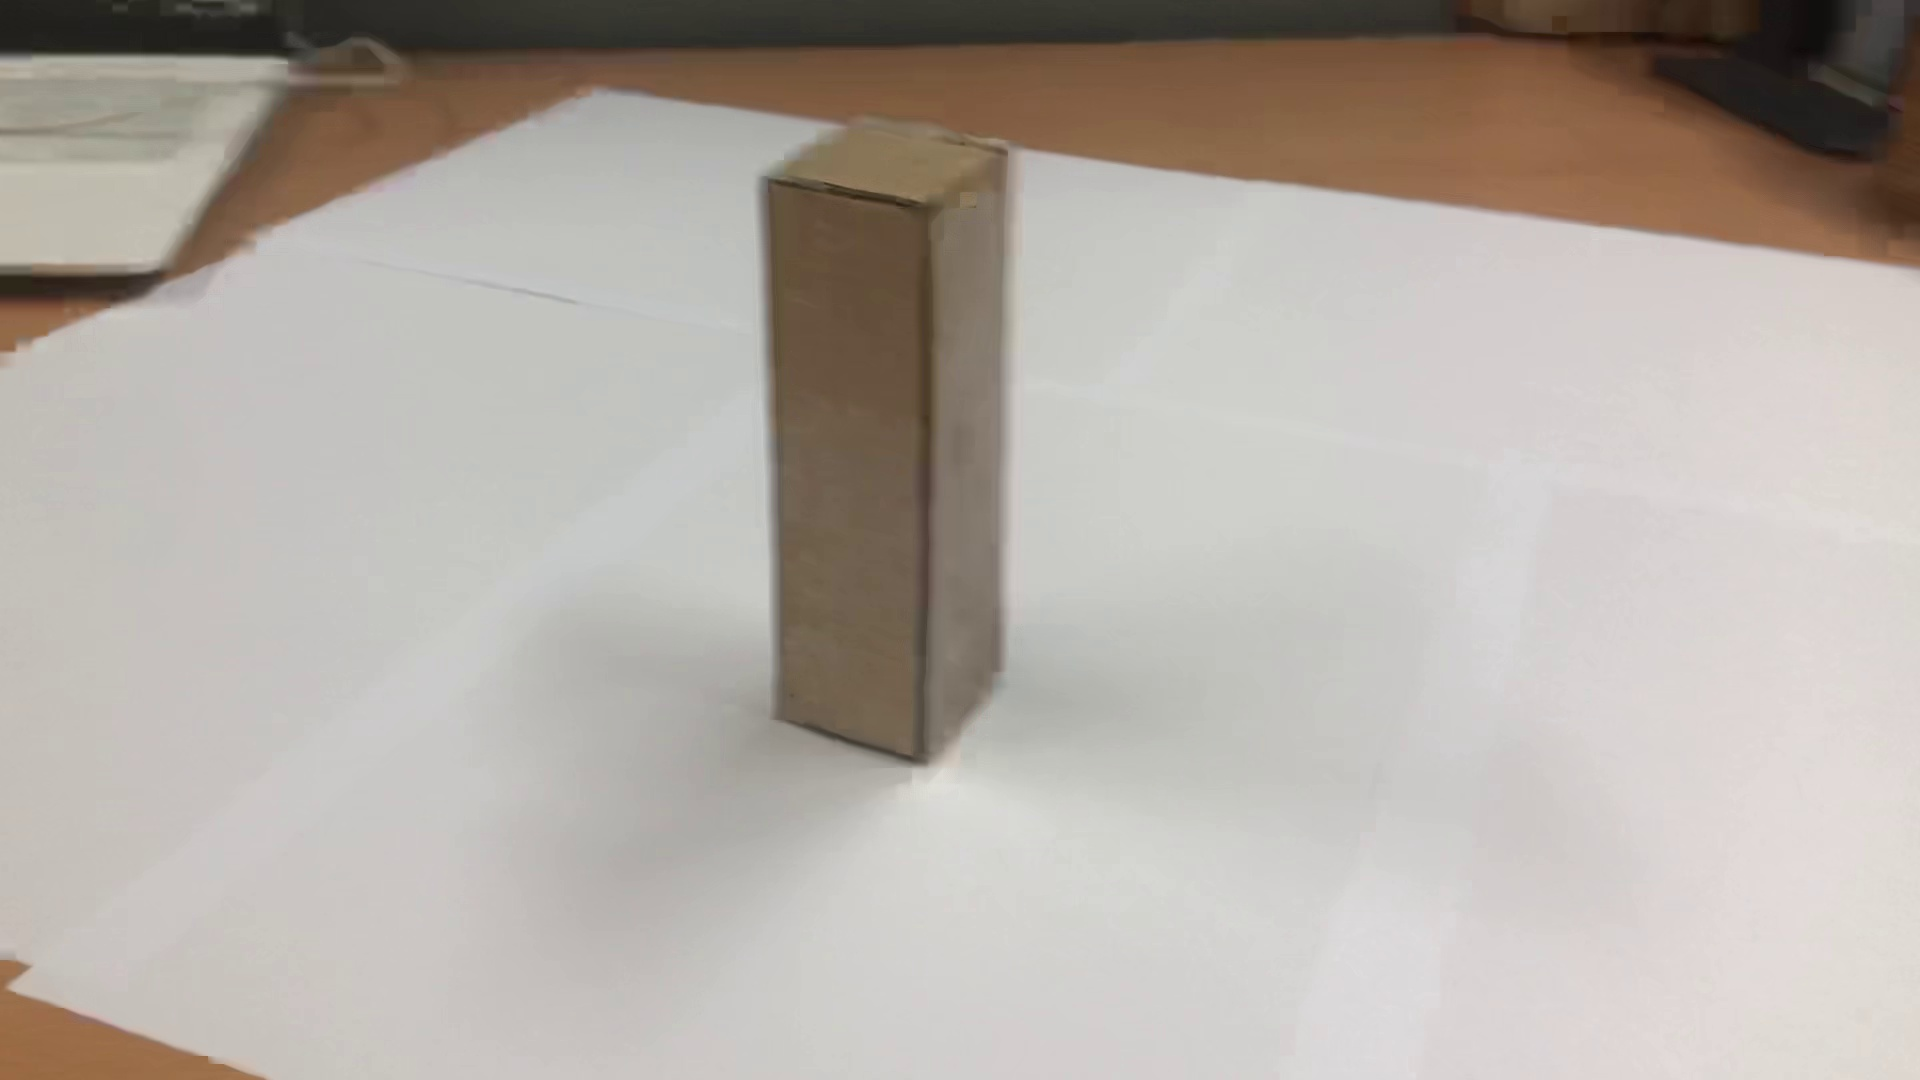box: (735, 109, 1038, 789)
